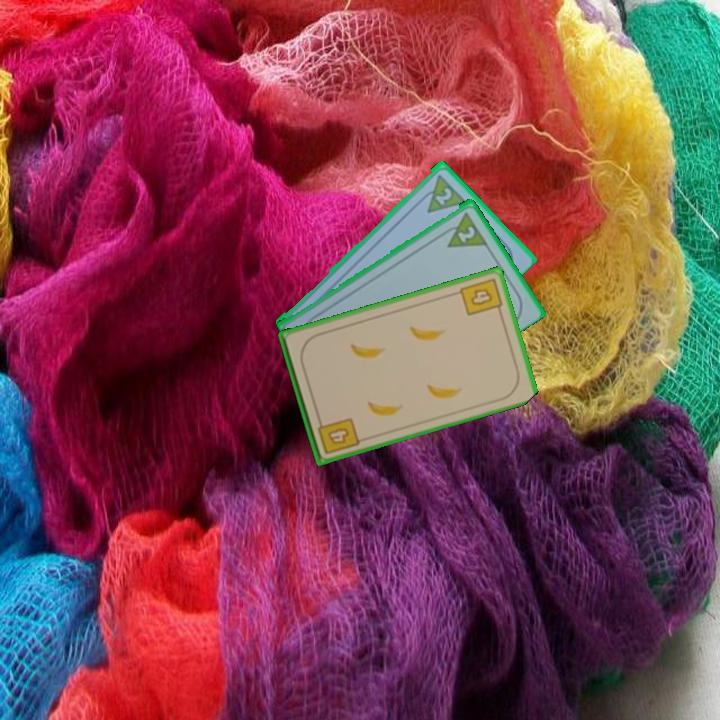2p: (437, 207, 489, 250), (432, 183, 455, 208)
4b: (456, 274, 505, 318), (314, 414, 362, 457)
